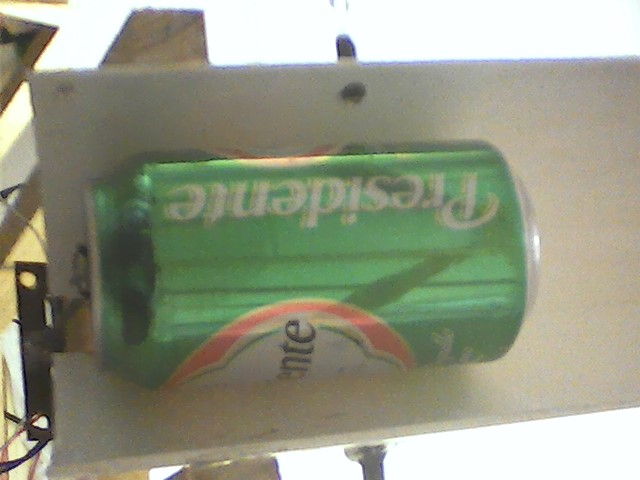lata: (73, 133, 548, 391)
